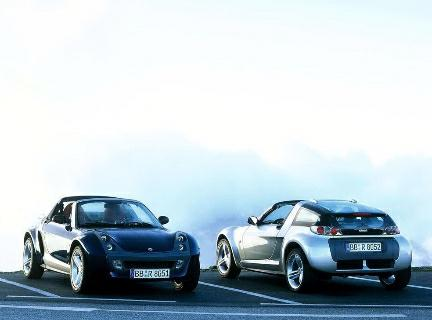smart-roadster: (209, 195, 413, 296), (19, 190, 201, 294)
